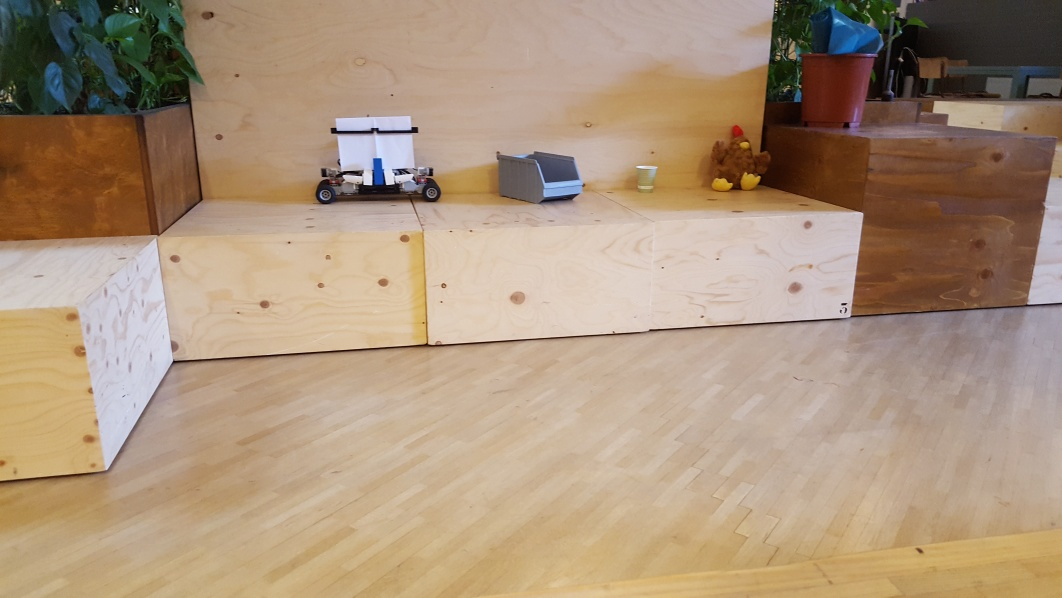beam: (369, 156, 384, 186)
chicken: (707, 123, 772, 195)
cup: (634, 161, 659, 195)
tray: (491, 148, 588, 203)
